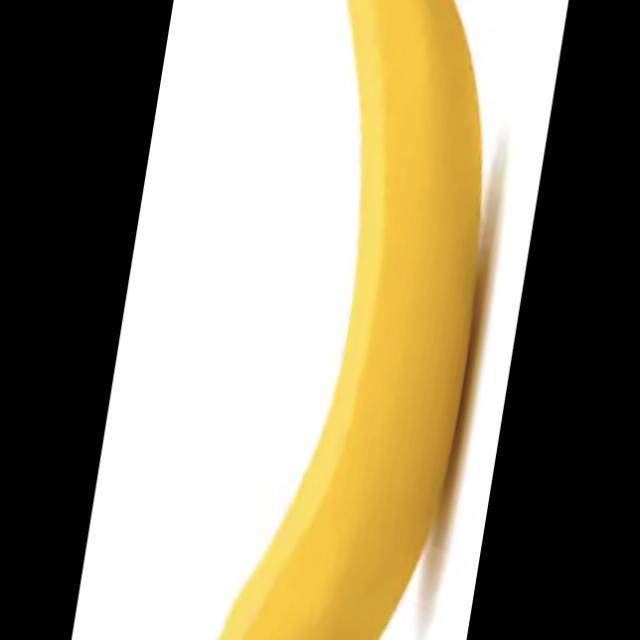Banana: (200, 0, 484, 639)
